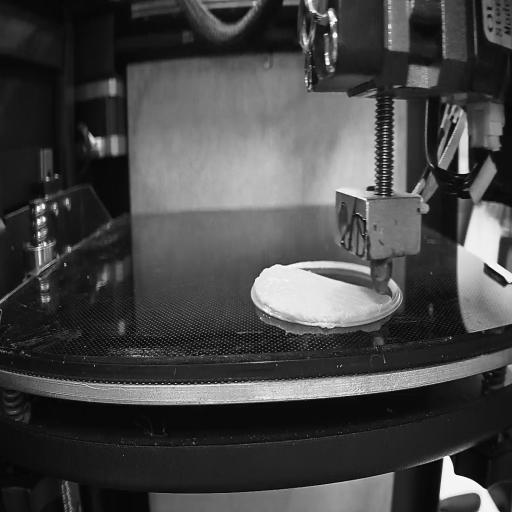over_extrusion: (251, 257, 282, 311)
